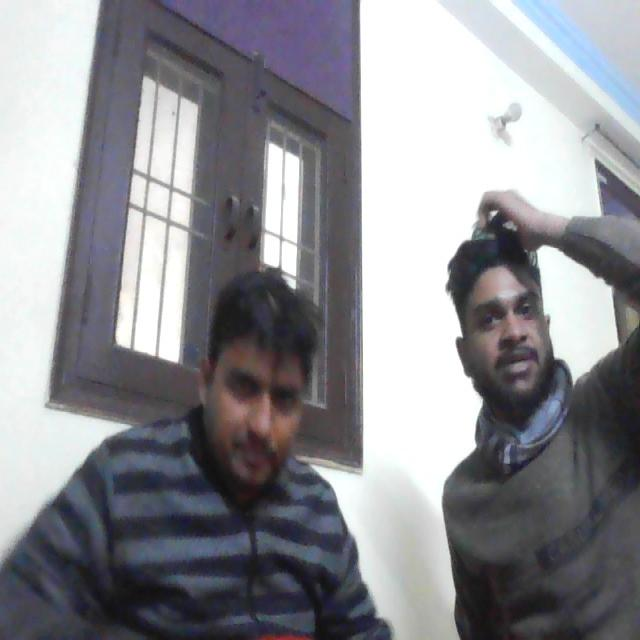real: (199, 284, 313, 499), (458, 210, 562, 406)
